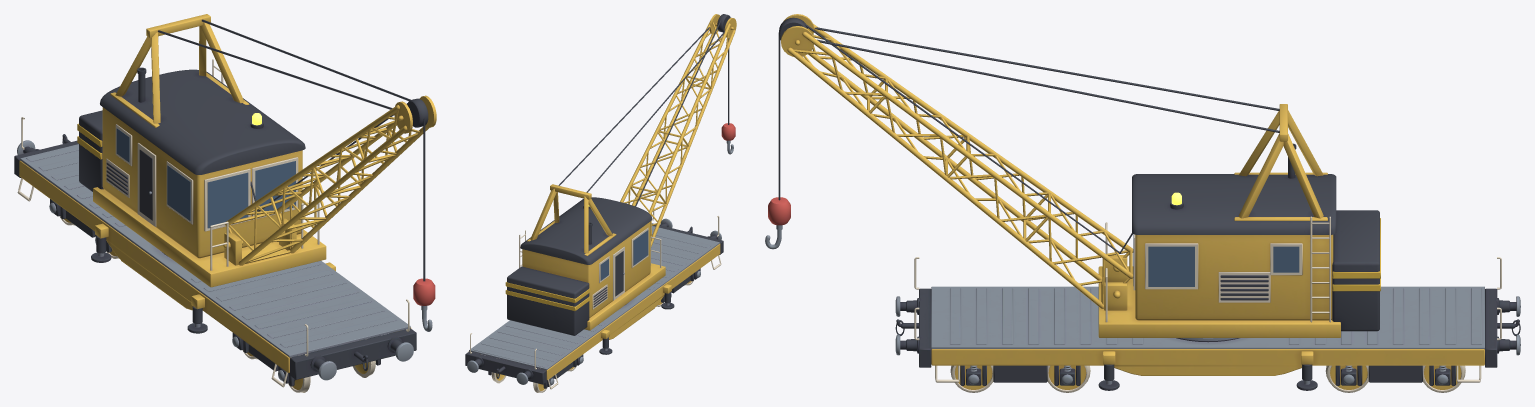
The model's file is rail-crane.glb.
The picture shows the model from 3 angles, left to right: view 1: azimuth 30°, elevation 25°; view 2: azimuth 150°, elevation 25°; view 3: azimuth 270°, elevation 25°; orthographic projection. The views are drawn at different scales.
Parts seen in each view (by area): view 1: rail-crane_jib, rail-crane_body, rail-crane_jib_window_glass; view 2: rail-crane_jib, rail-crane_body, rail-crane_jib_window_glass; view 3: rail-crane_jib, rail-crane_body, rail-crane_jib_window_glass.
Boxes of the visible parts, x1,y1,x2,y2 form: rail-crane_jib: [77, 14, 436, 331]; rail-crane_body: [14, 117, 416, 392]; rail-crane_jib_window_glass: [116, 128, 295, 228]; rail-crane_jib: [505, 14, 736, 335]; rail-crane_body: [465, 208, 723, 392]; rail-crane_jib_window_glass: [600, 230, 648, 280]; rail-crane_jib: [765, 14, 1380, 337]; rail-crane_body: [895, 257, 1520, 392]; rail-crane_jib_window_glass: [1133, 234, 1299, 286].
Bounding box in the file's own units: 3.4 × 7.54 × 14.5.
4 materials, 2 textured.
